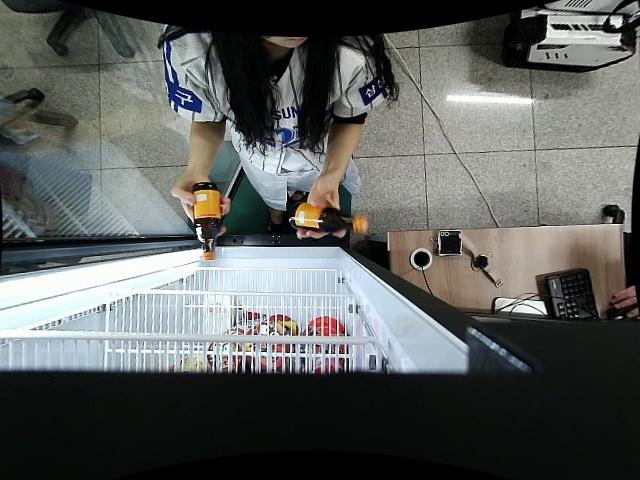00_hand: (170, 173, 232, 236), (296, 179, 347, 240)
17_vita500: (287, 203, 369, 241), (191, 181, 224, 263)
